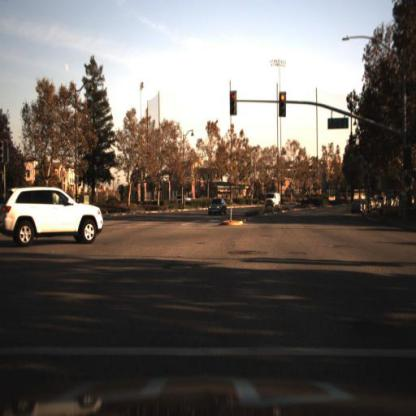car: (2, 180, 108, 250), (1, 187, 106, 247), (209, 197, 230, 218), (264, 192, 285, 212), (349, 198, 367, 217)
trafficLight-Red: (277, 87, 289, 123), (402, 146, 415, 174)
trafficLight-RedLeft: (229, 88, 239, 119)
